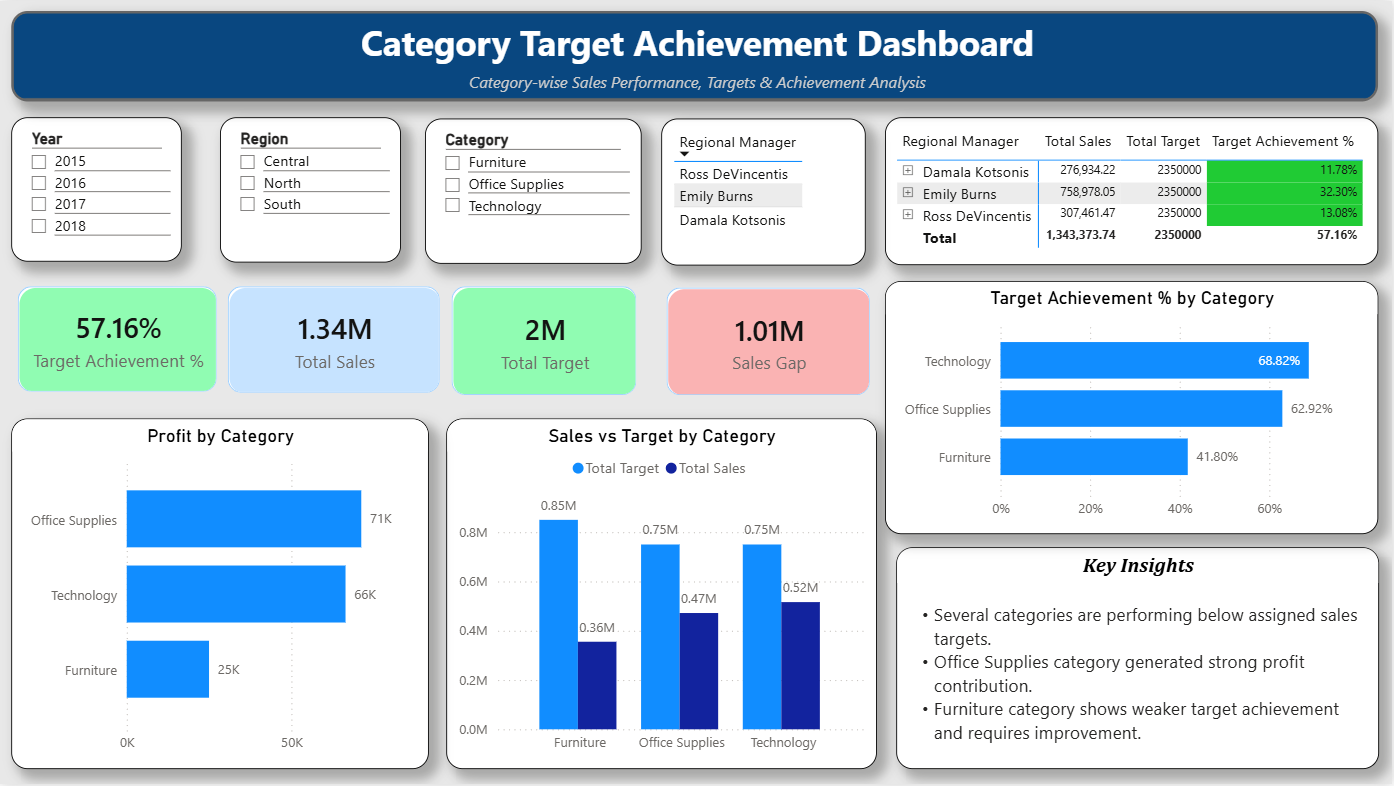

This screenshot's page, from the dashboard's own definition file:
{"tool":"powerbi","page":{"name":"Category Target Achievement","canvas":[1280,720],"ordinal":1},"visuals":[{"type":"pivotTable","fields":{"Rows":["People.People","Orders.Category"],"Values":["MeasureTable.Total Sales","MeasureTable.Total Target","MeasureTable.Target Achievement %"]},"box":[814.3,107.4,453.6,136.3],"z":0},{"type":"clusteredColumnChart","title":"Sales vs Target by Category","fields":{"Category":["Orders.Category"],"Y":["MeasureTable.Total Target","MeasureTable.Total Sales"]},"box":[410.2,383.6,395.7,322.1],"z":1000},{"type":"barChart","title":"Profit by Category","fields":{"Category":["Orders.Category"],"Y":["MeasureTable.Total Profit"]},"box":[10.9,383.6,383.6,322.1],"z":2000},{"type":"cardVisual","fields":{"Data":["MeasureTable.Total Target"]},"box":[410,257.5,180,110],"z":3000},{"type":"cardVisual","fields":{"Data":["MeasureTable.Target Achievement %"]},"box":[11.2,257.5,193.8,107.5],"z":4000},{"type":"cardVisual","fields":{"Data":["MeasureTable.Total Sales"]},"box":[205,257.5,205,108.8],"z":5000},{"type":"slicer","fields":{"Values":["People.Region"]},"box":[202.7,107.4,166.5,133.9],"z":6000},{"type":"slicer","fields":{"Values":["Orders.Category"]},"box":[390.9,108.6,199.1,133.9],"z":7000},{"type":"tableEx","fields":{"Values":["People.People"]},"box":[608,108.6,188.2,135.1],"z":8000},{"type":"slicer","fields":{"Values":["DateTable.Year"]},"box":[10.9,107.4,156.8,132.7],"z":9000},{"type":"textbox","title":"Key Insights","box":[824,501.9,444,203.9],"z":10000},{"type":"textbox","title":"Category Target Achievement Dashboard","box":[10.9,9.7,1257.1,83.2],"z":11000},{"type":"clusteredBarChart","fields":{"Category":["Orders.Category"],"Y":["MeasureTable.Target Achievement %"]},"box":[814.3,257,453.6,232.8],"z":12000},{"type":"cardVisual","fields":{"Data":["MeasureTable.Sales Gap"]},"box":[608,258.2,197.9,109.8],"z":13000},{"type":"actionButton","box":[0,0,100,40],"z":14000}]}

Visuals, with their boxes in screenshot pixels (x1, y1, x2, y2), scaled from the page's 1280x720 canvas onto the 1394x786 screenshot:
pivotTable - People.People x Orders.Category: bbox=[887, 117, 1381, 266]
"Sales vs Target by Category" clusteredColumnChart: bbox=[447, 419, 878, 770]
"Profit by Category" barChart: bbox=[12, 419, 430, 770]
cardVisual - MeasureTable.Total Target: bbox=[447, 281, 643, 401]
cardVisual - MeasureTable.Target Achievement %: bbox=[12, 281, 223, 398]
cardVisual - MeasureTable.Total Sales: bbox=[223, 281, 447, 400]
slicer - People.Region: bbox=[221, 117, 402, 263]
slicer - Orders.Category: bbox=[426, 119, 643, 265]
tableEx - People.People: bbox=[662, 119, 867, 266]
slicer - DateTable.Year: bbox=[12, 117, 183, 262]
"Key Insights" textbox: bbox=[897, 548, 1381, 770]
"Category Target Achievement Dashboard" textbox: bbox=[12, 11, 1381, 101]
clusteredBarChart - Orders.Category x MeasureTable.Target Achievement %: bbox=[887, 281, 1381, 535]
cardVisual - MeasureTable.Sales Gap: bbox=[662, 282, 878, 402]
actionButton: bbox=[0, 0, 109, 44]
